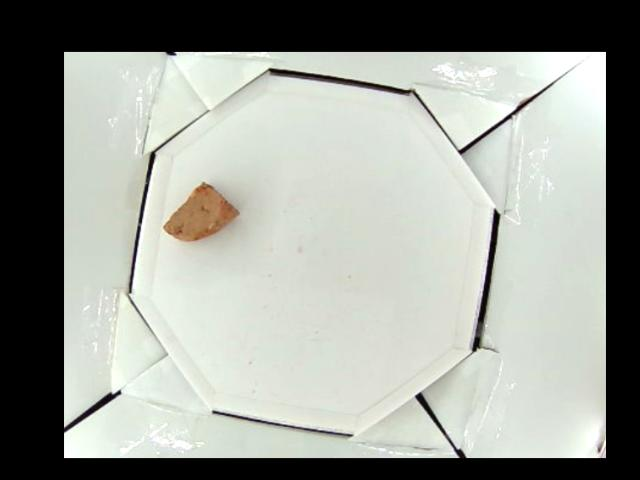Brisk: (162, 183, 240, 241)
